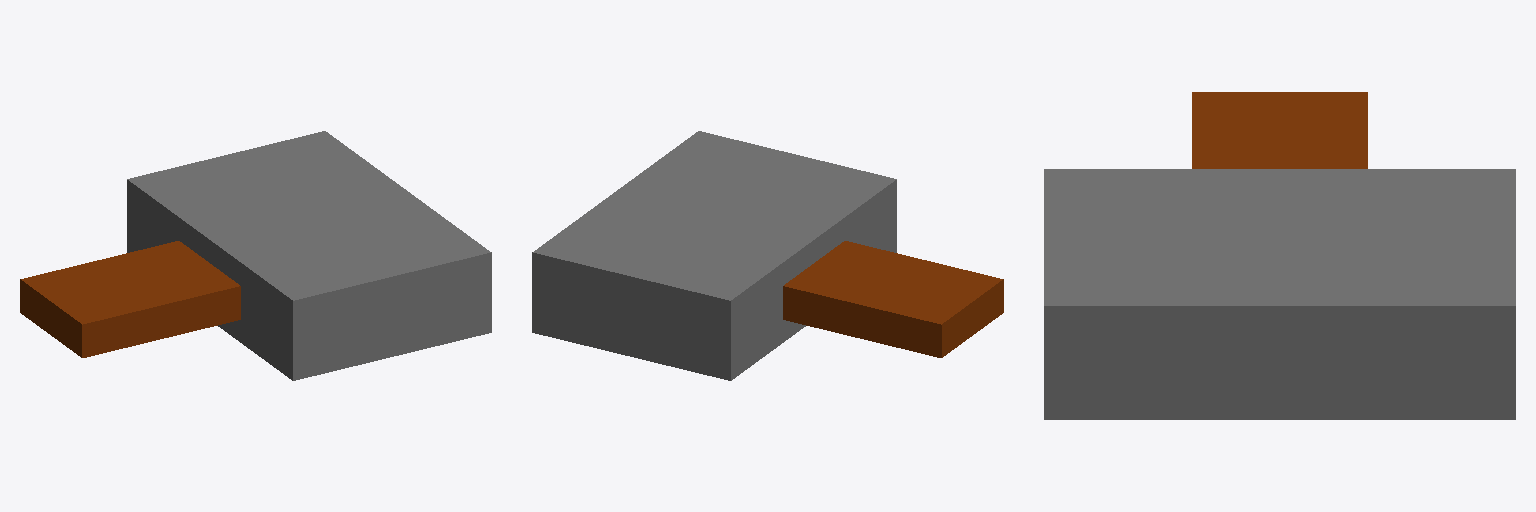
robot.urdf — handle_head:
<?xml version="1.0"?>
<robot name="handle_head">

  <link name="handle_head">
    <!-- Handle -->
    <visual>
              <origin xyz="0 0 0" rpy="0 0 0"/>
        <geometry>
          <box size="0.05500761781395989 0.03724627629367517 0.01121150342229461"/>
        </geometry>
        
      <material name="brown">
        <color rgba="0.55 0.27 0.07 1.0"/>
      </material>
    </visual>
    <collision>
              <origin xyz="0 0 0" rpy="0 0 0"/>
        <geometry>
          <box size="0.05500761781395989 0.03724627629367517 0.01121150342229461"/>
        </geometry>
        
    </collision>

    <!-- Head -->
    <visual>
              <origin xyz="0.06190157531612375 0 0" rpy="0 0 0"/>
        <geometry>
          <box size="0.06879553281828761 0.09986557734271193 0.026632335786853926"/>
        </geometry>
        
      <material name="gray">
        <color rgba="0.5 0.5 0.5 1.0"/>
      </material>
    </visual>
    <collision>
              <origin xyz="0.06190157531612375 0 0" rpy="0 0 0"/>
        <geometry>
          <box size="0.06879553281828761 0.09986557734271193 0.026632335786853926"/>
        </geometry>
        
    </collision>

    <inertial>
      <origin xyz="0.05511620900011258 0 0" rpy="0 0 0"/>
      <mass value="0.07872336093552437"/>
      <inertia ixx="6.348582360069028e-05" iyy="6.349582782635231e-05" izz="0.00011851480219198241" ixy="0" ixz="0" iyz="0"/>
    </inertial>
  </link>

</robot>

--- Render facts (derived) ---
The picture shows the robot from 3 angles, left to right: view 1: azimuth 30°, elevation 25°; view 2: azimuth 150°, elevation 25°; view 3: azimuth 270°, elevation 25°; orthographic projection.
Robot: handle_head — 1 links, 0 joints (none); root link handle_head; default pose: all joints at 0.
Links seen in each view (by area): view 1: handle_head; view 2: handle_head; view 3: handle_head.
Boxes of the visible links, box(x1,y1,x2,y2) form: handle_head: box(20, 131, 491, 380); handle_head: box(532, 131, 1003, 380); handle_head: box(1044, 92, 1515, 419).
Size in the robot's own frame: 0.1238 by 0.0999 by 0.0266 metres.
Geometry: primitives only (box / cylinder / sphere), no mesh files.
